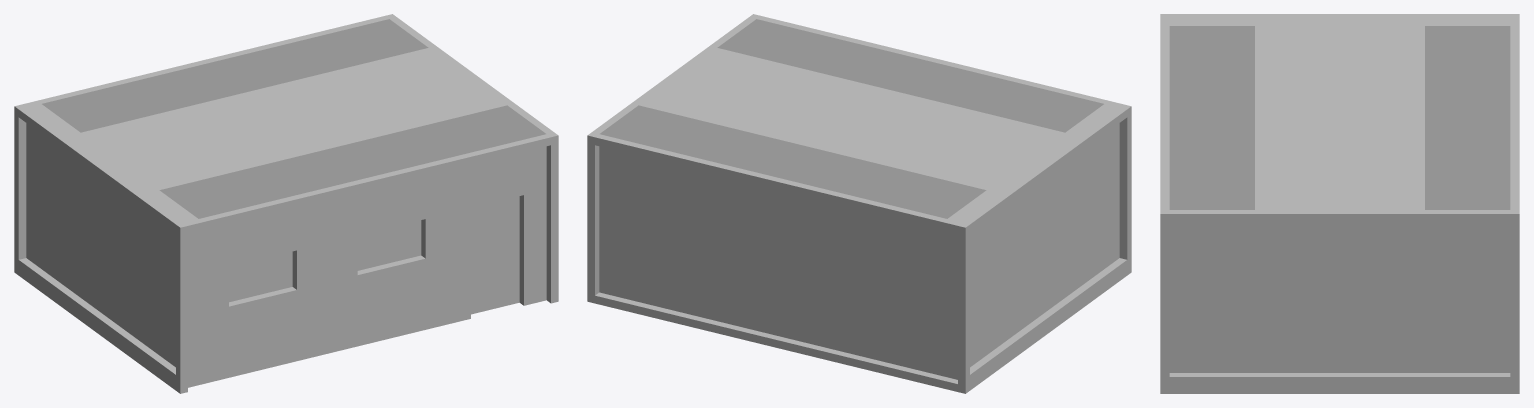
The model's file is church6-5.obj.
The picture shows the model from 3 angles, left to right: view 1: azimuth 30°, elevation 25°; view 2: azimuth 150°, elevation 25°; view 3: azimuth 270°, elevation 25°; orthographic projection. The views are drawn at different scales.
Parts seen in each view (by area): view 1: church6-5; view 2: church6-5; view 3: church6-5.
Boxes of the visible parts, x1,y1,x2,y2 form: church6-5: (14,14,558,393); church6-5: (587,14,1131,393); church6-5: (1160,14,1519,393).
Size of the model in its own units: 50 by 21 by 38.
1 material, 1 textured.
